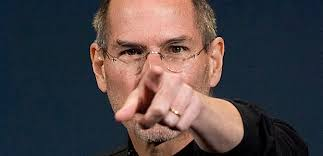hand: (120, 59, 213, 136)
